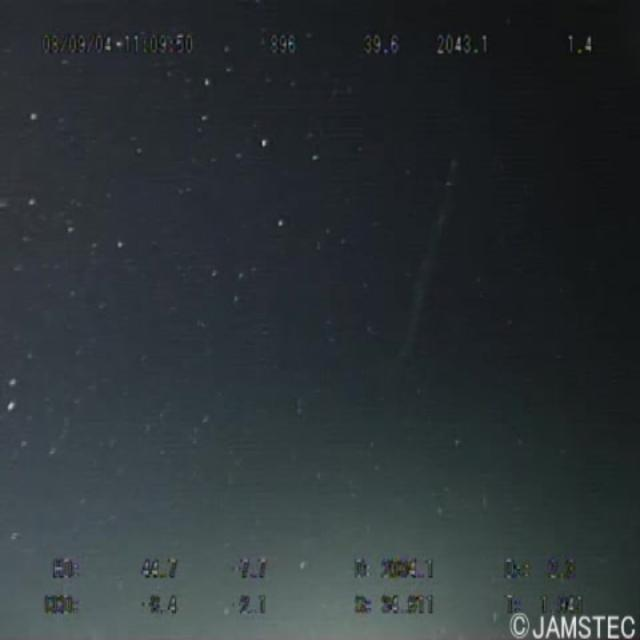Metal: (404, 102, 471, 391)
